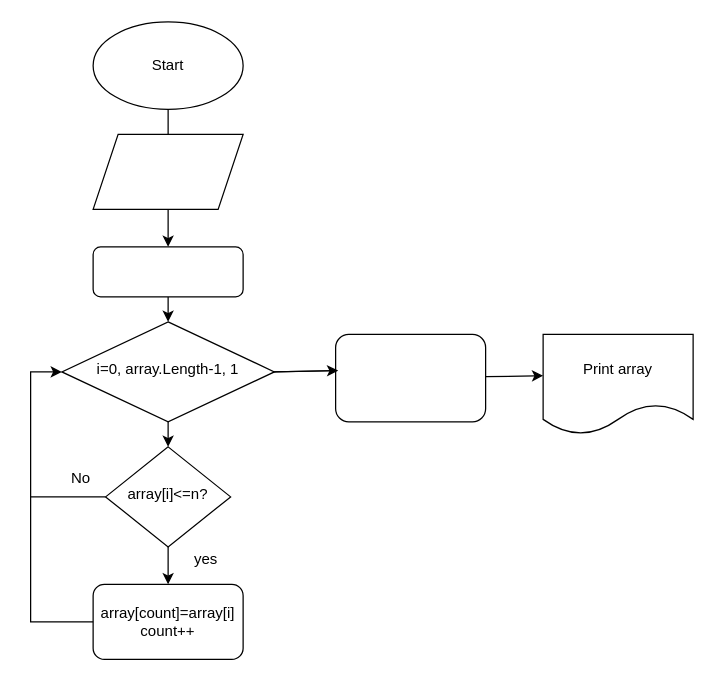
The diagram is 715 pixels wide and 681 high, and some of its shapes have lost their labels. Each missing label, with the box of its shape:
array[], n=3: (92, 133, 243, 209)
count =0: (92, 246, 243, 297)
Resize (ref array, count): (334, 333, 486, 422)
